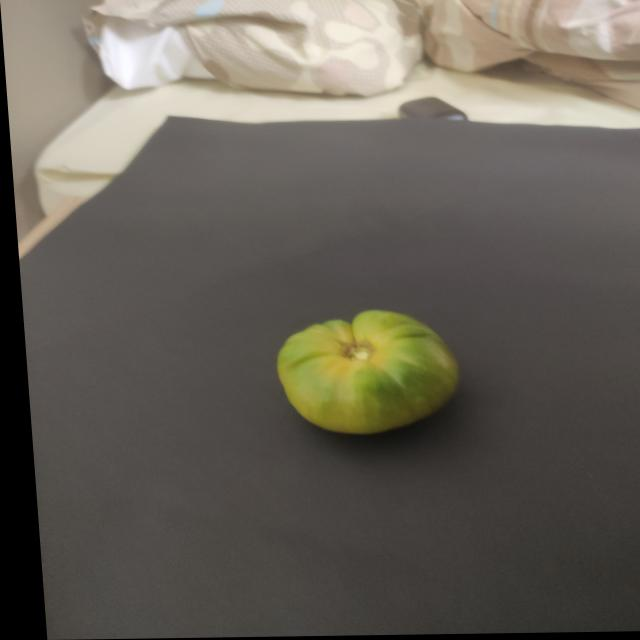yesil: (252, 301, 465, 449)
